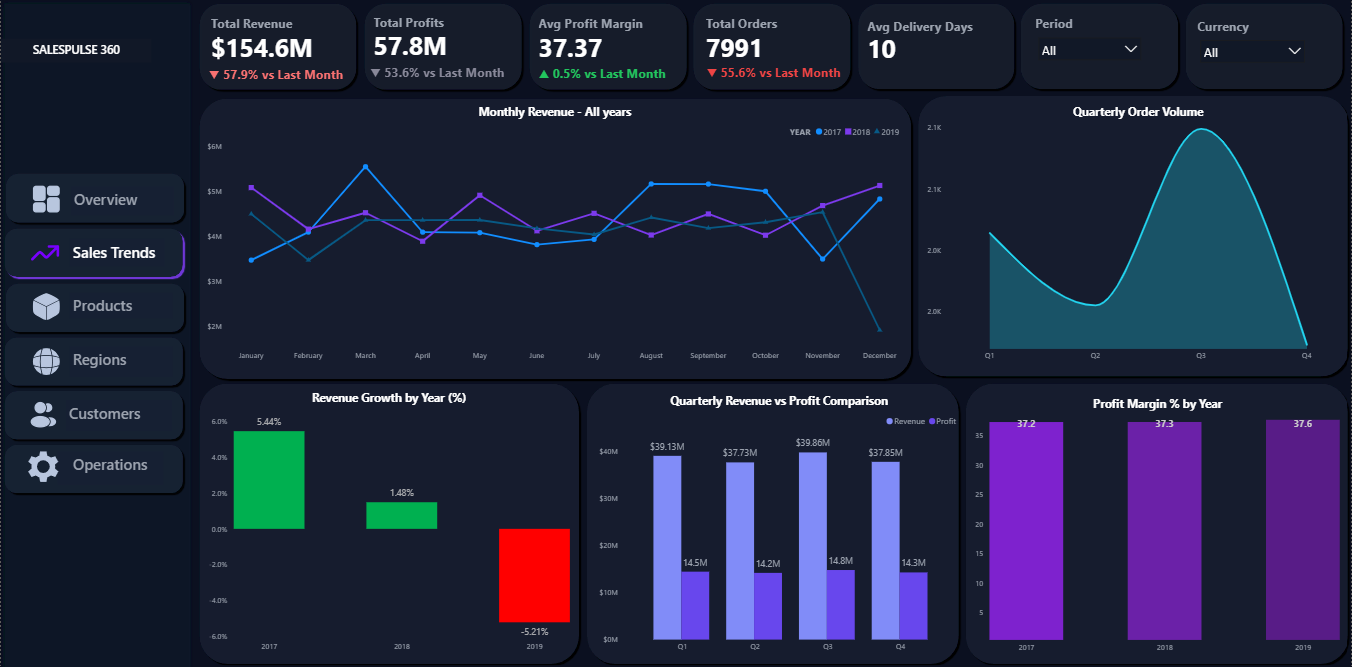

This screenshot's page, from the dashboard's own definition file:
{"tool":"powerbi","page":{"name":"Sales Trends","canvas":[2185,1080],"ordinal":1},"visuals":[{"type":"shape","box":[315.4,614.6,625,465],"z":0},{"type":"shape","box":[1477.8,149.6,707.6,465],"z":1000},{"type":"shape","box":[1380,0,264,150],"z":2000},{"type":"shape","box":[942.1,614.6,612.6,465],"z":3000},{"type":"shape","box":[583.1,0,265.7,150.8],"z":4000},{"type":"shape","box":[315.2,0,265,150.8],"z":5000},{"type":"shape","box":[848.7,0,265.7,150.8],"z":6000},{"type":"advanceCardE03760C5AB684758B56AA29F9E6C257B","title":"Avg Profit Margin","fields":{"mainMeasure":["CALENDAR_TABLE.Avg Profit Margin"]},"box":[869,24.8,186,76],"z":7000},{"type":"shape","box":[1114.4,0,265.7,150.8],"z":8000},{"type":"shape","box":[0,0,311.3,1101.8],"z":9000},{"type":"shape","box":[2,274.9,300,91],"z":10000},{"type":"textbox","box":[112.8,300.9,166.6,47.3],"z":11000},{"type":"shape","box":[0.1,363.5,300,90],"z":12000},{"type":"shape","box":[1,453.2,300,90.1],"z":13000},{"type":"shape","box":[0,540.6,300,90],"z":14000},{"type":"shape","box":[-1,627.3,300,90.1],"z":15000},{"type":"shape","box":[0,712.8,300,90],"z":16000},{"type":"textbox","box":[111.4,473.4,166.6,42.8],"z":17000},{"type":"textbox","box":[111.4,559.3,166.6,49.5],"z":18000},{"type":"textbox","box":[104.8,647.6,171.1,49.5],"z":19000},{"type":"textbox","box":[91.8,730.2,171.1,54],"z":20000},{"type":"image","box":[49.3,298.2,49.5,49.5],"z":21000},{"type":"image","box":[47.2,384.5,49.5,49.5],"z":22000},{"type":"image","box":[48.3,471.6,49.5,49.5],"z":23000},{"type":"image","box":[48.4,559.3,49.5,49.5],"z":24000},{"type":"image","box":[41.8,647.6,54,49.5],"z":25000},{"type":"image","box":[40.1,730.2,56.3,49.5],"z":26000},{"type":"textbox","box":[110.3,386.3,153.1,45],"z":27000},{"type":"textbox","box":[246.2,132.5,66.2,33.8],"z":28000},{"type":"advanceCardE03760C5AB684758B56AA29F9E6C257B","title":"Total Orders","fields":{"mainMeasure":["CALENDAR_TABLE.Total Orders"]},"box":[1140,24,186,76],"z":29000},{"type":"advanceCardE03760C5AB684758B56AA29F9E6C257B","title":"Total Profits","fields":{"mainMeasure":["CALENDAR_TABLE.Total Profit"]},"box":[603.3,22.5,186.9,76.5],"z":30000},{"type":"advanceCardE03760C5AB684758B56AA29F9E6C257B","title":"Avg Delivery Days","fields":{"mainMeasure":["CALENDAR_TABLE.Avg Delivery Days"]},"box":[1400,28,226,72],"z":31000},{"type":"shape","box":[1554.6,614.6,630.8,465],"z":32000},{"type":"shape","box":[315.4,153.6,1162.4,465],"z":33000},{"type":"advanceCardE03760C5AB684758B56AA29F9E6C257B","title":"Total Revenue","fields":{"mainMeasure":["CALENDAR_TABLE.Total Revenue"]},"box":[339.9,24.8,186.9,76.5],"z":34000},{"type":"card","fields":{"Values":["CALENDAR_TABLE.Revenue Trend Label"]},"box":[310.7,101.3,267.9,40.5],"z":35000},{"type":"card","fields":{"Values":["CALENDAR_TABLE.Profit Trend Label"]},"box":[571.8,99.1,267.9,40.5],"z":36000},{"type":"card","fields":{"Values":["CALENDAR_TABLE.Orders Trend Label"]},"box":[1116,100,268,40],"z":37000},{"type":"card","fields":{"Values":["CALENDAR_TABLE.Profit Margin Trend Label"]},"box":[839.7,101.3,267,40],"z":38000},{"type":"shape","box":[1644,0,266,150],"z":39000},{"type":"slicer","title":"Period","fields":{"Values":["CALENDAR_TABLE.YEAR","CALENDAR_TABLE.MONTH_NAME"]},"box":[1668,24,186,76],"z":40000},{"type":"pageNavigator","box":[0,279,299.2,86],"z":41000},{"type":"shape","box":[1910,0,265,150],"z":42000},{"type":"slicer","title":"Currency","fields":{"Values":["SALES_ANALYTICS_MASTER.CURRENCY_CODE"]},"box":[1932.5,27.5,186,75],"z":43000},{"type":"pageNavigator","box":[0,366.7,298.3,86.7],"z":44000},{"type":"pageNavigator","box":[0,454.9,299.2,86],"z":45000},{"type":"pageNavigator","box":[0,539.8,299.2,86.9],"z":46000},{"type":"pageNavigator","box":[0,711.6,301.2,86.9],"z":47000},{"type":"lineChart","title":"Monthly Revenue - All years","fields":{"Category":["CALENDAR_TABLE.MONTH_NAME"],"Y":["CALENDAR_TABLE.Total Revenue"],"Series":["CALENDAR_TABLE.YEAR"]},"box":[315.4,167.8,1162.4,440.7],"z":48000},{"type":"clusteredColumnChart","title":"Revenue Growth by Year (%)","fields":{"Category":["CALENDAR_TABLE.YEAR"],"Y":["CALENDAR_TABLE.Avg Annual Revenue Growth %"]},"box":[315.4,630.8,624.7,448.8],"z":49000},{"type":"lineChart","title":"Quarterly Order Volume","fields":{"Category":["CALENDAR_TABLE.QUARTER"],"Y":["CALENDAR_TABLE.Total Orders"]},"box":[1477.8,167.8,707.6,440.7],"z":50000},{"type":"clusteredColumnChart","title":"Quarterly Revenue vs Profit Comparison","fields":{"Category":["CALENDAR_TABLE.QUARTER"],"Y":["CALENDAR_TABLE.Total Profit","CALENDAR_TABLE.Total Revenue"]},"box":[962.3,626.7,592.3,452.8],"z":51000},{"type":"clusteredColumnChart","title":"Profit Margin % by Year","fields":{"Y":["CALENDAR_TABLE.Avg Profit Margin"],"Category":["CALENDAR_TABLE.YEAR"]},"box":[1570.8,630.8,614.6,448.8],"z":52000},{"type":"pageNavigator","box":[2,626.7,299.2,86.9],"z":53000},{"type":"image","box":[62.2,0,201.1,170],"z":54000},{"type":"textbox","box":[0,153.2,260.9,88.6],"z":55000},{"type":"textbox","box":[222.6,153.2,93.4,69.4],"z":56000}]}

Visuals, with their boxes on the page's 2185x1080 design canvas (x1, y1, x2, y2). These are canvas units, not pixel positions in the 1352x667 screenshot, which may show the page scaled, cropped or inside an application window:
shape: {"x1": 315, "y1": 615, "x2": 940, "y2": 1080}
shape: {"x1": 1478, "y1": 150, "x2": 2185, "y2": 615}
shape: {"x1": 1380, "y1": 0, "x2": 1644, "y2": 150}
shape: {"x1": 942, "y1": 615, "x2": 1555, "y2": 1080}
shape: {"x1": 583, "y1": 0, "x2": 849, "y2": 151}
shape: {"x1": 315, "y1": 0, "x2": 580, "y2": 151}
shape: {"x1": 849, "y1": 0, "x2": 1114, "y2": 151}
"Avg Profit Margin" advanceCardE03760C5AB684758B56AA29F9E6C257B: {"x1": 869, "y1": 25, "x2": 1055, "y2": 101}
shape: {"x1": 1114, "y1": 0, "x2": 1380, "y2": 151}
shape: {"x1": 0, "y1": 0, "x2": 311, "y2": 1102}
shape: {"x1": 2, "y1": 275, "x2": 302, "y2": 366}
textbox: {"x1": 113, "y1": 301, "x2": 279, "y2": 348}
shape: {"x1": 0, "y1": 364, "x2": 300, "y2": 454}
shape: {"x1": 1, "y1": 453, "x2": 301, "y2": 543}
shape: {"x1": 0, "y1": 541, "x2": 300, "y2": 631}
shape: {"x1": -1, "y1": 627, "x2": 299, "y2": 717}
shape: {"x1": 0, "y1": 713, "x2": 300, "y2": 803}
textbox: {"x1": 111, "y1": 473, "x2": 278, "y2": 516}
textbox: {"x1": 111, "y1": 559, "x2": 278, "y2": 609}
textbox: {"x1": 105, "y1": 648, "x2": 276, "y2": 697}
textbox: {"x1": 92, "y1": 730, "x2": 263, "y2": 784}
image: {"x1": 49, "y1": 298, "x2": 99, "y2": 348}
image: {"x1": 47, "y1": 384, "x2": 97, "y2": 434}
image: {"x1": 48, "y1": 472, "x2": 98, "y2": 521}
image: {"x1": 48, "y1": 559, "x2": 98, "y2": 609}
image: {"x1": 42, "y1": 648, "x2": 96, "y2": 697}
image: {"x1": 40, "y1": 730, "x2": 96, "y2": 780}
textbox: {"x1": 110, "y1": 386, "x2": 263, "y2": 431}
textbox: {"x1": 246, "y1": 132, "x2": 312, "y2": 166}
"Total Orders" advanceCardE03760C5AB684758B56AA29F9E6C257B: {"x1": 1140, "y1": 24, "x2": 1326, "y2": 100}
"Total Profits" advanceCardE03760C5AB684758B56AA29F9E6C257B: {"x1": 603, "y1": 22, "x2": 790, "y2": 99}
"Avg Delivery Days" advanceCardE03760C5AB684758B56AA29F9E6C257B: {"x1": 1400, "y1": 28, "x2": 1626, "y2": 100}
shape: {"x1": 1555, "y1": 615, "x2": 2185, "y2": 1080}
shape: {"x1": 315, "y1": 154, "x2": 1478, "y2": 619}
"Total Revenue" advanceCardE03760C5AB684758B56AA29F9E6C257B: {"x1": 340, "y1": 25, "x2": 527, "y2": 101}
card - CALENDAR_TABLE.Revenue Trend Label: {"x1": 311, "y1": 101, "x2": 579, "y2": 142}
card - CALENDAR_TABLE.Profit Trend Label: {"x1": 572, "y1": 99, "x2": 840, "y2": 140}
card - CALENDAR_TABLE.Orders Trend Label: {"x1": 1116, "y1": 100, "x2": 1384, "y2": 140}
card - CALENDAR_TABLE.Profit Margin Trend Label: {"x1": 840, "y1": 101, "x2": 1107, "y2": 141}
shape: {"x1": 1644, "y1": 0, "x2": 1910, "y2": 150}
"Period" slicer: {"x1": 1668, "y1": 24, "x2": 1854, "y2": 100}
pageNavigator: {"x1": 0, "y1": 279, "x2": 299, "y2": 365}
shape: {"x1": 1910, "y1": 0, "x2": 2175, "y2": 150}
"Currency" slicer: {"x1": 1932, "y1": 28, "x2": 2118, "y2": 102}
pageNavigator: {"x1": 0, "y1": 367, "x2": 298, "y2": 453}
pageNavigator: {"x1": 0, "y1": 455, "x2": 299, "y2": 541}
pageNavigator: {"x1": 0, "y1": 540, "x2": 299, "y2": 627}
pageNavigator: {"x1": 0, "y1": 712, "x2": 301, "y2": 798}
"Monthly Revenue - All years" lineChart: {"x1": 315, "y1": 168, "x2": 1478, "y2": 608}
"Revenue Growth by Year (%)" clusteredColumnChart: {"x1": 315, "y1": 631, "x2": 940, "y2": 1080}
"Quarterly Order Volume" lineChart: {"x1": 1478, "y1": 168, "x2": 2185, "y2": 608}
"Quarterly Revenue vs Profit Comparison" clusteredColumnChart: {"x1": 962, "y1": 627, "x2": 1555, "y2": 1080}
"Profit Margin % by Year" clusteredColumnChart: {"x1": 1571, "y1": 631, "x2": 2185, "y2": 1080}
pageNavigator: {"x1": 2, "y1": 627, "x2": 301, "y2": 714}
image: {"x1": 62, "y1": 0, "x2": 263, "y2": 170}
textbox: {"x1": 0, "y1": 153, "x2": 261, "y2": 242}
textbox: {"x1": 223, "y1": 153, "x2": 316, "y2": 223}
